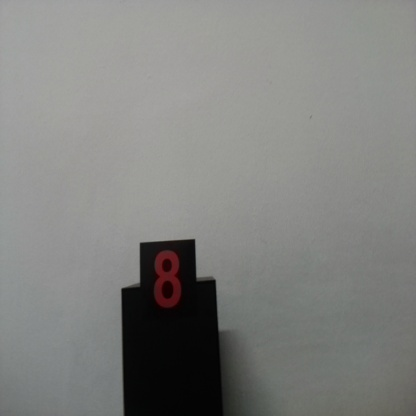id_8: (140, 242, 197, 329)
